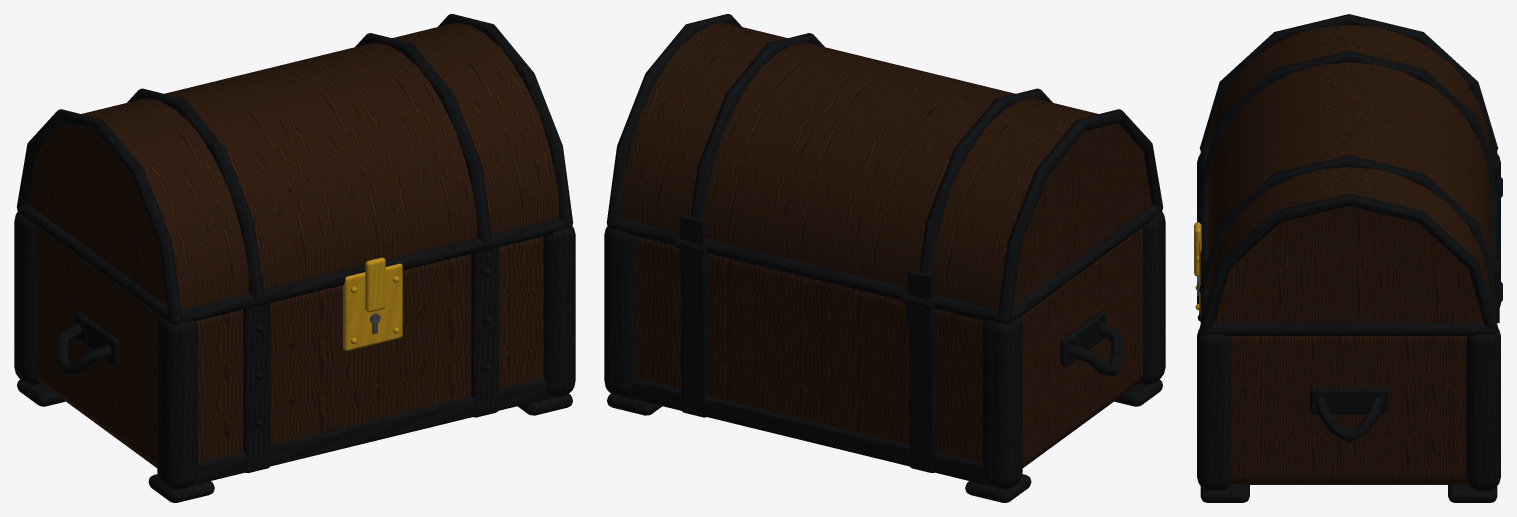
Rendered from treasure_chest.glb.
The picture shows the model from 3 angles, left to right: view 1: azimuth 30°, elevation 25°; view 2: azimuth 150°, elevation 25°; view 3: azimuth 270°, elevation 25°; orthographic projection. The views are drawn at different scales.
Parts seen in each view (by area): view 1: vaulted_barrel_lid, chest_wooden_body, lid_lip_frame, corner_bracket_fr, strap_base_front, corner_bracket_fl, lid_rim_arch_right, strap_front_left, strap_front_right, corner_bracket_br, lock_plate, lid_rib_right (+8 smaller); view 2: vaulted_barrel_lid, chest_wooden_body, lid_lip_frame, corner_bracket_br, strap_base_back, corner_bracket_bl, lid_rim_arch_right, strap_back_right, strap_back_left, corner_bracket_fr, lid_rib_right, lid_rib_left (+8 smaller); view 3: vaulted_barrel_lid, chest_wooden_body, lid_lip_frame, lid_rim_arch_left, corner_bracket_fl, corner_bracket_bl, lid_rib_right, lid_rib_left, lid_rim_arch_right, handle_mount_left, handle_tube_left, chest_foot_fl (+1 smaller).
Part boxes in pixels (x1=…): vaulted_barrel_lid: x1=28, y1=22, x2=559, y2=309; chest_wooden_body: x1=37, y1=228, x2=543, y2=467; lid_lip_frame: x1=17, y1=204, x2=572, y2=324; corner_bracket_fr: x1=157, y1=317, x2=197, y2=489; strap_base_front: x1=191, y1=378, x2=552, y2=485; corner_bracket_fl: x1=543, y1=226, x2=575, y2=397; lid_rim_arch_right: x1=16, y1=109, x2=181, y2=320; strap_front_left: x1=471, y1=247, x2=498, y2=417; strap_front_right: x1=243, y1=303, x2=270, y2=472; corner_bracket_br: x1=14, y1=212, x2=40, y2=384; lock_plate: x1=343, y1=263, x2=402, y2=350; lid_rib_right: x1=127, y1=88, x2=264, y2=300; vaulted_barrel_lid: x1=620, y1=22, x2=1151, y2=309; chest_wooden_body: x1=636, y1=228, x2=1142, y2=467; lid_lip_frame: x1=607, y1=204, x2=1162, y2=324; corner_bracket_br: x1=982, y1=317, x2=1022, y2=489; strap_base_back: x1=626, y1=378, x2=988, y2=485; corner_bracket_bl: x1=604, y1=226, x2=636, y2=397; lid_rim_arch_right: x1=998, y1=109, x2=1163, y2=320; strap_back_right: x1=909, y1=309, x2=936, y2=472; strap_back_left: x1=681, y1=253, x2=708, y2=417; corner_bracket_fr: x1=1139, y1=212, x2=1165, y2=384; lid_rib_right: x1=919, y1=88, x2=1052, y2=274; lid_rib_left: x1=691, y1=33, x2=824, y2=219; vaulted_barrel_lid: x1=1208, y1=24, x2=1489, y2=322; chest_wooden_body: x1=1229, y1=336, x2=1468, y2=484; lid_lip_frame: x1=1200, y1=146, x2=1497, y2=336; lid_rim_arch_left: x1=1199, y1=193, x2=1498, y2=331; corner_bracket_fl: x1=1197, y1=328, x2=1231, y2=490; corner_bracket_bl: x1=1466, y1=328, x2=1500, y2=490; lid_rib_right: x1=1199, y1=50, x2=1493, y2=187; lid_rib_left: x1=1199, y1=155, x2=1493, y2=292; lid_rim_arch_right: x1=1199, y1=14, x2=1498, y2=149; handle_mount_left: x1=1310, y1=388, x2=1387, y2=414; handle_tube_left: x1=1315, y1=397, x2=1382, y2=442; chest_foot_fl: x1=1200, y1=485, x2=1249, y2=502.
Size of the model in its own units: 1.43 by 0.965 by 0.8732.
Materials: 5 (3 with a texture image).
